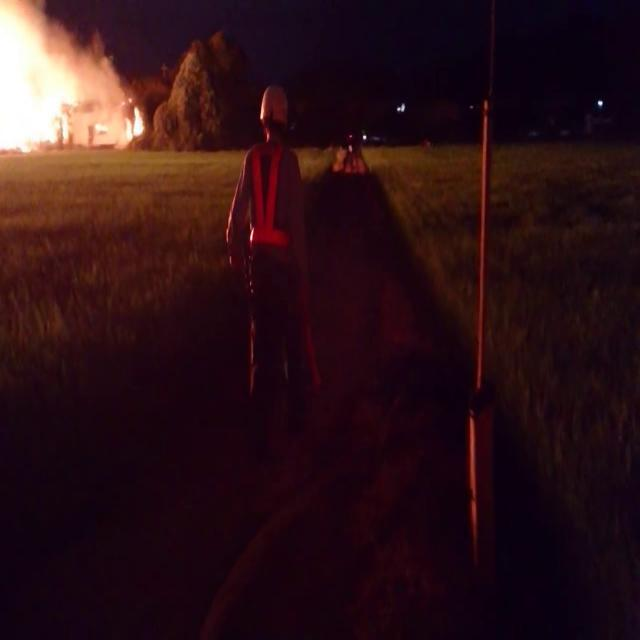Fire: (0, 8, 74, 154), (133, 106, 143, 138), (126, 124, 134, 140)
